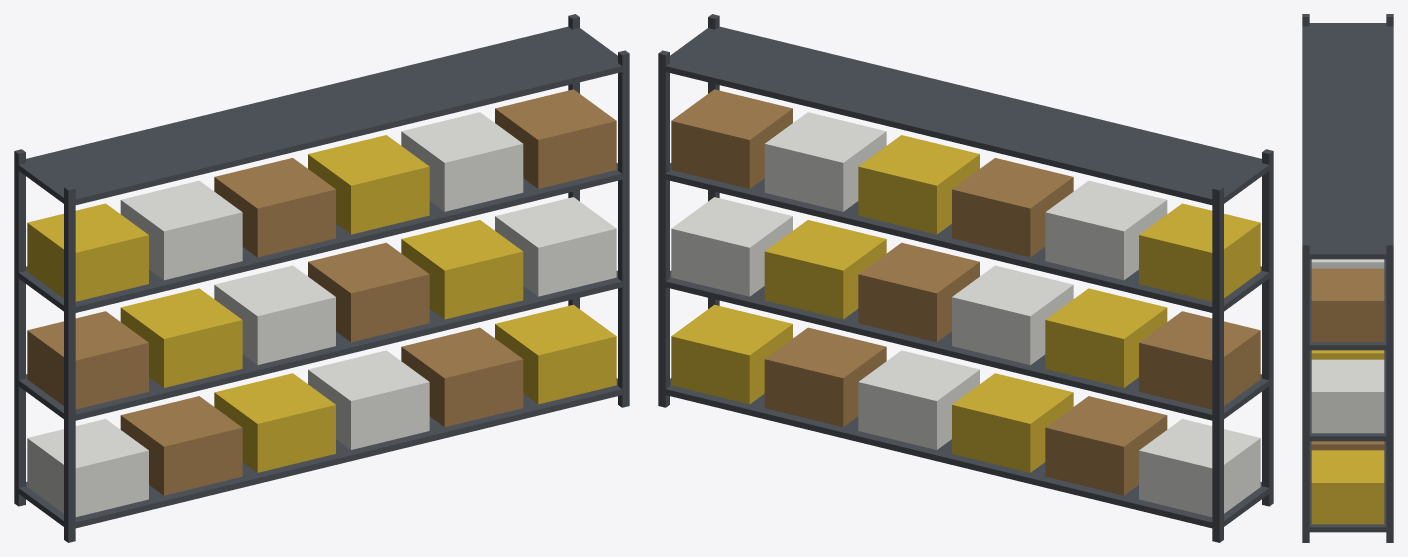
Rendered from store shelving.glb.
The picture shows the model from 3 angles, left to right: view 1: azimuth 30°, elevation 25°; view 2: azimuth 150°, elevation 25°; view 3: azimuth 270°, elevation 25°; orthographic projection. The views are drawn at different scales.
Visible parts, largest first — view 1: store shelving; view 2: store shelving; view 3: store shelving.
Part boxes in pixels (left/top/right/bottom): store shelving: left=14, top=14, right=629, bottom=542; store shelving: left=658, top=14, right=1273, bottom=542; store shelving: left=1302, top=14, right=1393, bottom=542.
Bounding box in the file's own units: 3 × 1.8 × 0.5.
